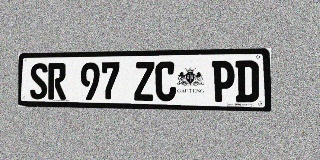7: (100, 62, 120, 100)
9: (81, 62, 100, 100)
C: (155, 61, 176, 101)
D: (235, 60, 259, 102)
P: (212, 61, 235, 102)
R: (48, 63, 66, 100)
S: (30, 63, 47, 99)
Z: (134, 62, 154, 101)
